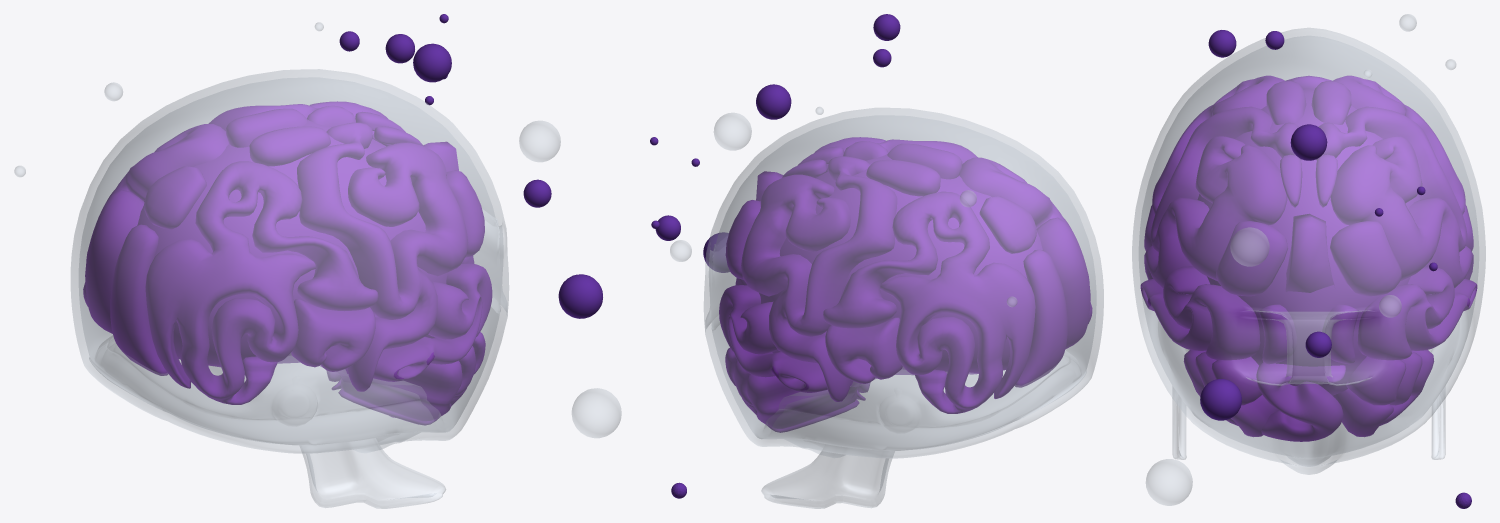
The model's file is Brain-w.glb.
The picture shows the model from 3 angles, left to right: view 1: azimuth 30°, elevation 25°; view 2: azimuth 150°, elevation 25°; view 3: azimuth 270°, elevation 25°; orthographic projection. The views are drawn at different scales.
Visible parts, largest first — view 1: Cube, Plane.004, Plane.005, Plane, Sphere, Plane.009, Plane.002, Plane.006, Plane.003, Sphere.004, Sphere.001, Sphere.003 (+2 smaller); view 2: Cube, Plane.004, Plane.005, Plane, Sphere, Plane.009, Plane.002, Plane.006, Plane.003, Sphere.003, Sphere.007, Sphere.001 (+2 smaller); view 3: Cube, Plane.005, Plane.006, Plane, Sphere, Plane.003, Plane.008, Plane.004, Plane.007, Plane.002, Sphere.004, Sphere.001 (+5 smaller).
Boxes of the visible parts, left/top/right/bottom form: Cube: left=71, top=69, right=508, bottom=453; Plane.004: left=83, top=124, right=378, bottom=404; Plane.005: left=208, top=101, right=468, bottom=391; Plane: left=226, top=108, right=484, bottom=371; Sphere: left=137, top=119, right=448, bottom=376; Plane.009: left=110, top=166, right=206, bottom=375; Plane.002: left=300, top=438, right=445, bottom=508; Plane.006: left=373, top=256, right=492, bottom=381; Plane.003: left=326, top=332, right=485, bottom=425; Sphere.004: left=572, top=388, right=621, bottom=437; Sphere.001: left=558, top=274, right=602, bottom=318; Sphere.003: left=519, top=121, right=560, bottom=161; Cube: left=704, top=108, right=1103, bottom=458; Plane.004: left=823, top=157, right=1092, bottom=413; Plane.005: left=741, top=137, right=977, bottom=401; Plane: left=725, top=143, right=962, bottom=383; Sphere: left=759, top=154, right=1042, bottom=386; Plane.009: left=979, top=196, right=1067, bottom=387; Plane.002: left=761, top=444, right=894, bottom=508; Plane.006: left=719, top=278, right=827, bottom=392; Plane.003: left=725, top=348, right=869, bottom=432; Sphere.003: left=714, top=113, right=751, bottom=150; Sphere.007: left=756, top=84, right=791, bottom=119; Sphere.001: left=703, top=232, right=729, bottom=272; Cube: left=1132, top=28, right=1485, bottom=474; Plane.005: left=1144, top=106, right=1473, bottom=287; Plane.006: left=1140, top=266, right=1477, bottom=364; Plane: left=1144, top=81, right=1473, bottom=296; Sphere: left=1197, top=89, right=1420, bottom=395; Plane.003: left=1184, top=350, right=1433, bottom=436; Plane.008: left=1256, top=362, right=1345, bottom=441; Plane.004: left=1152, top=75, right=1465, bottom=214; Plane.007: left=1285, top=214, right=1334, bottom=292; Plane.002: left=1172, top=387, right=1445, bottom=459; Sphere.004: left=1146, top=459, right=1192, bottom=505; Sphere.001: left=1200, top=379, right=1241, bottom=420.
Size of the model in its own units: 6.39 by 6.04 by 4.49.
4 materials, 4 textured.
